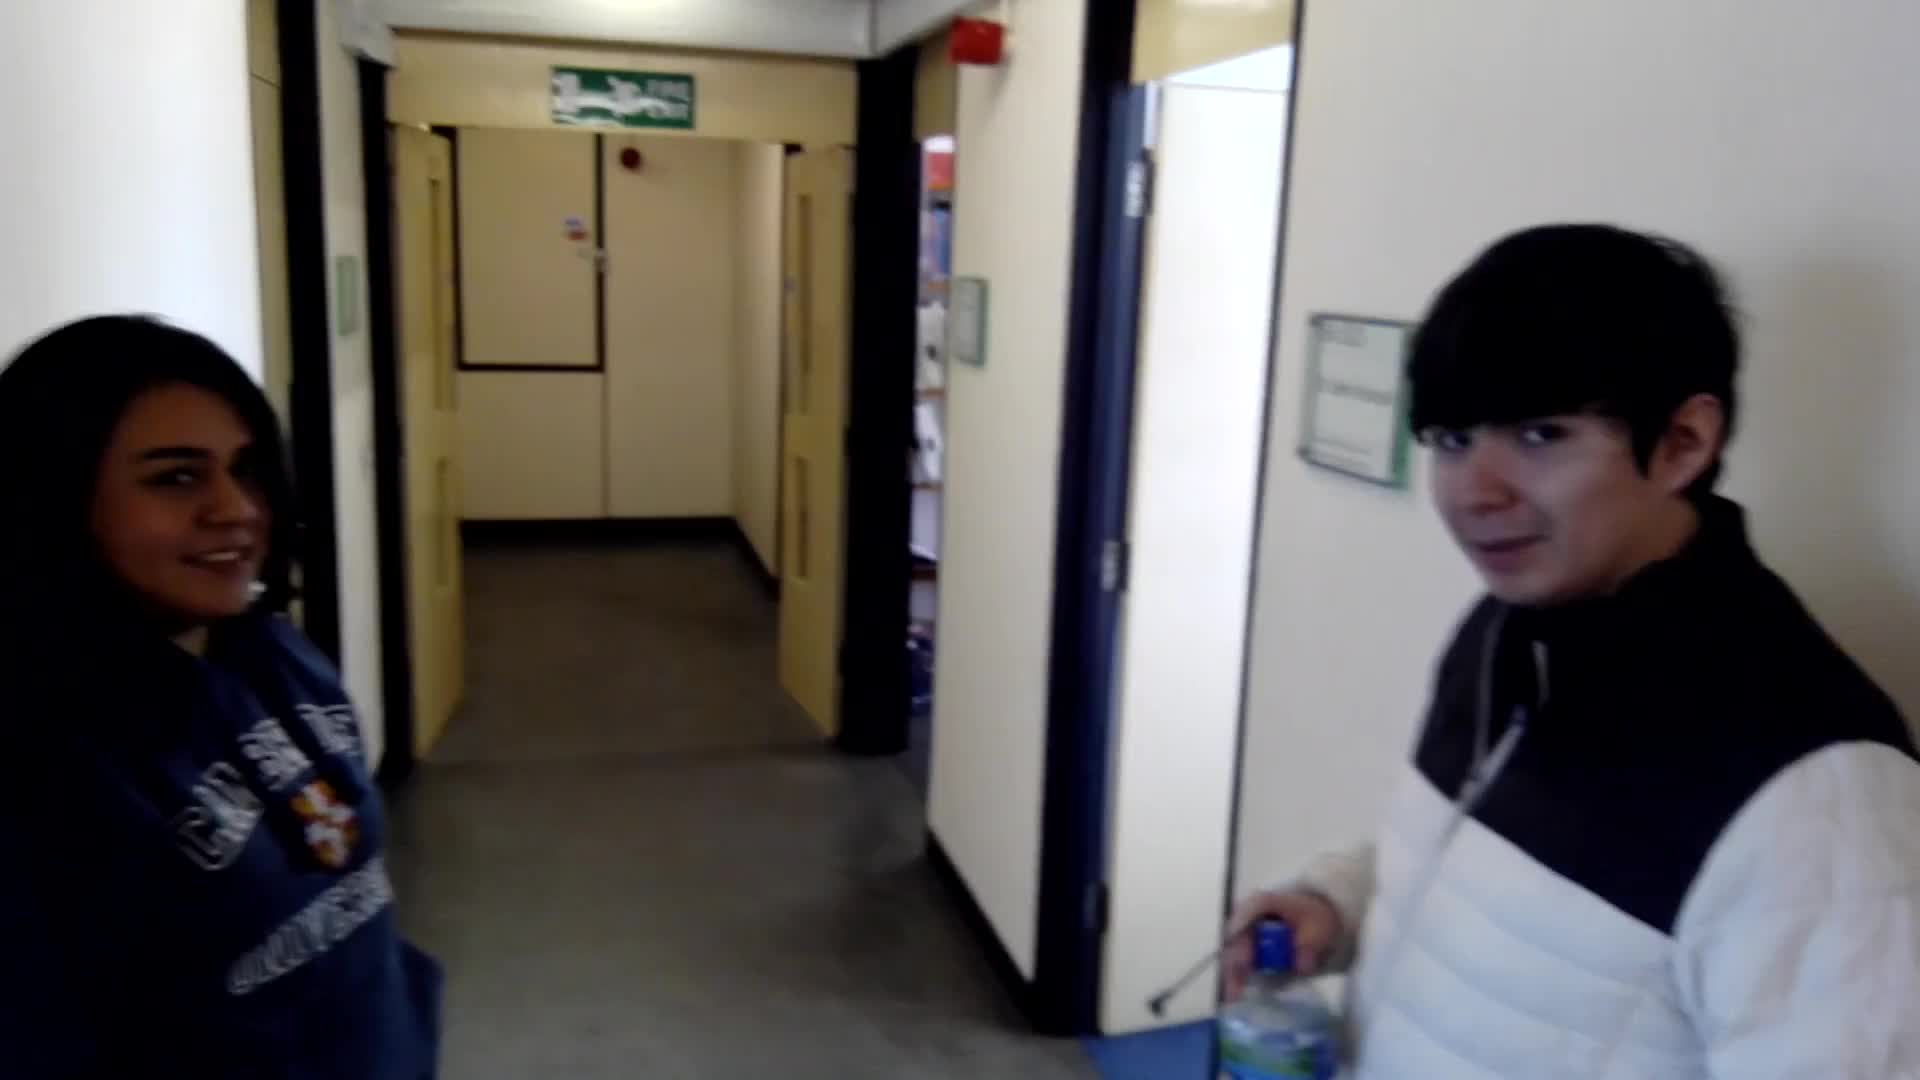Person: (1341, 205, 1920, 1080), (2, 309, 452, 1080)
